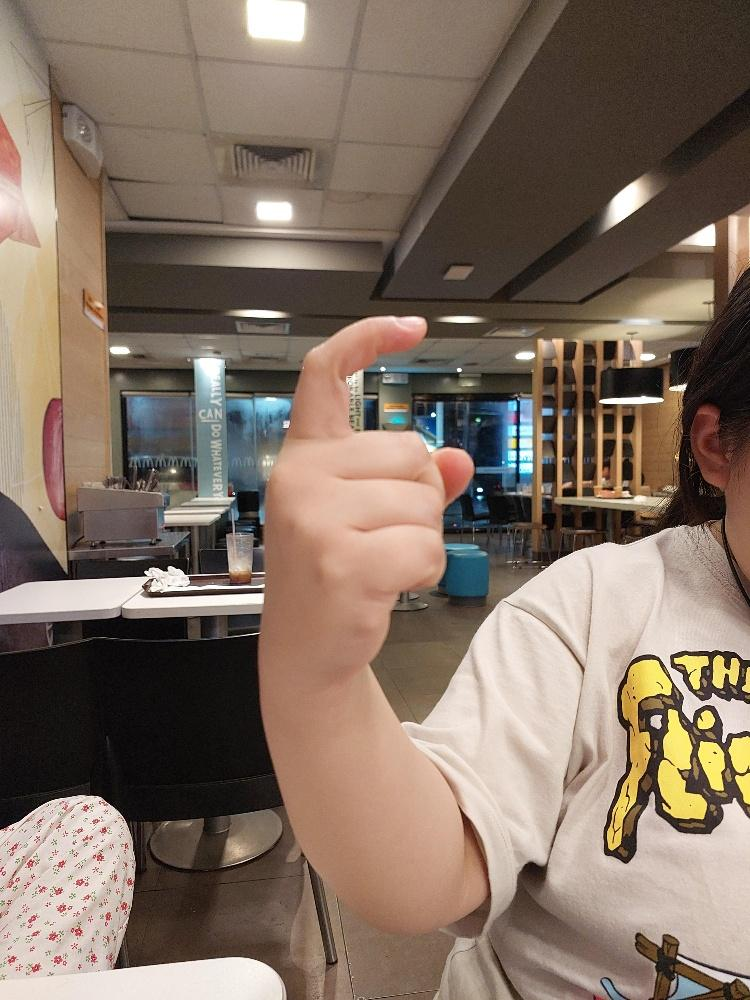x: (255, 310, 475, 688)
